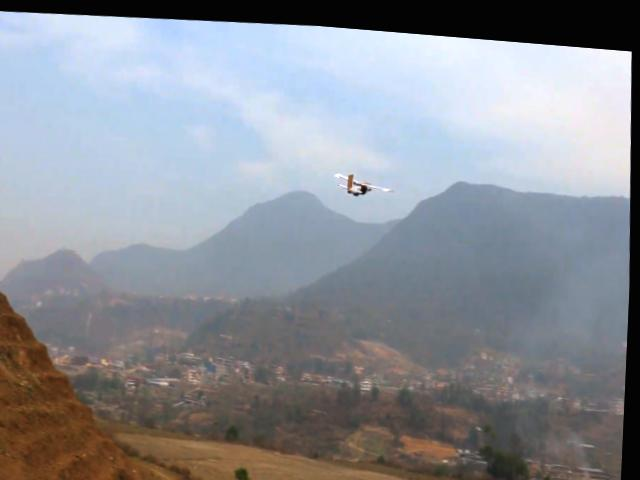plane: (336, 161, 398, 192)
